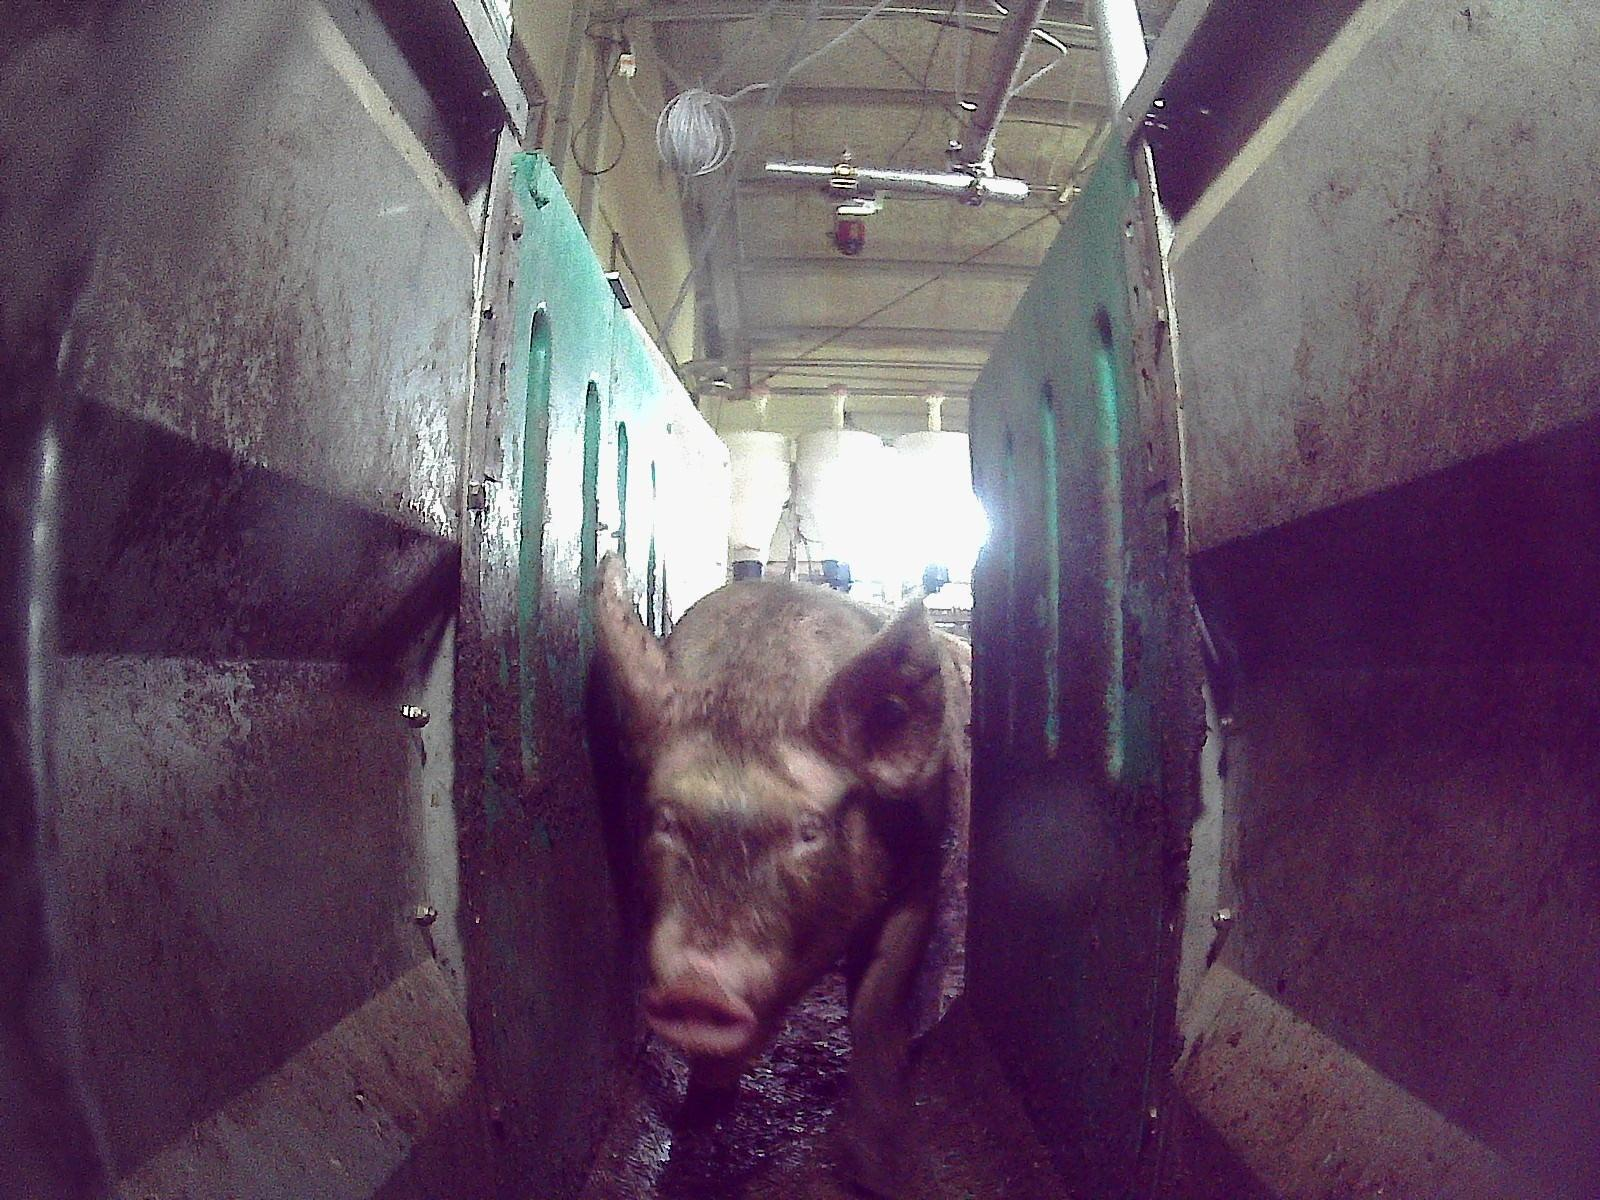Face: (628, 669, 875, 1056)
